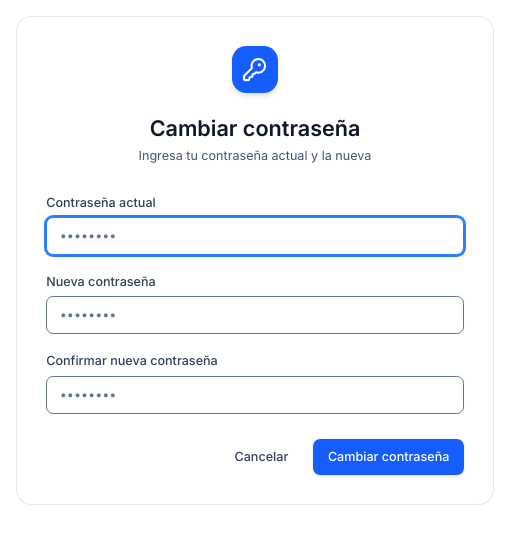
Scenario: ChangePasswordPage › muestra error cuando "confirmar" no coincide con "nueva"
In the password field labelled "Contraseña actual": {"x": 255, "y": 236} [46,217,464,255], type "Password123"
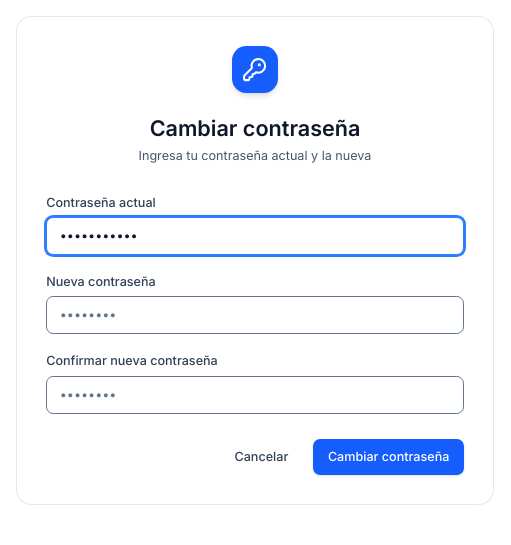
In the password field labelled "Nueva contraseña": {"x": 255, "y": 315} [46,296,464,334], type "NuevaPassword123"
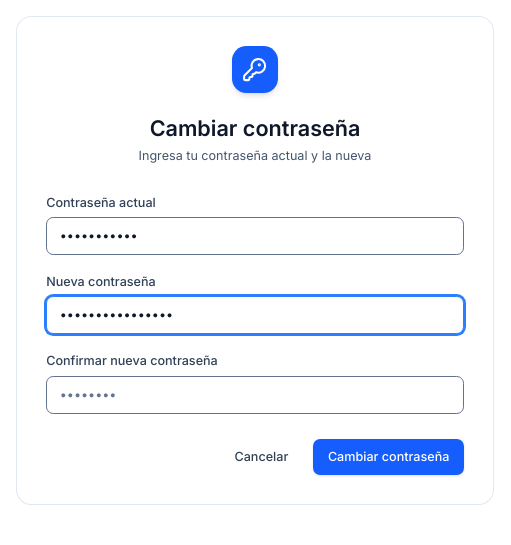
In the password field labelled "Confirmar nueva contraseña": {"x": 255, "y": 395} [46,376,464,414], type "OtraDistinta456"
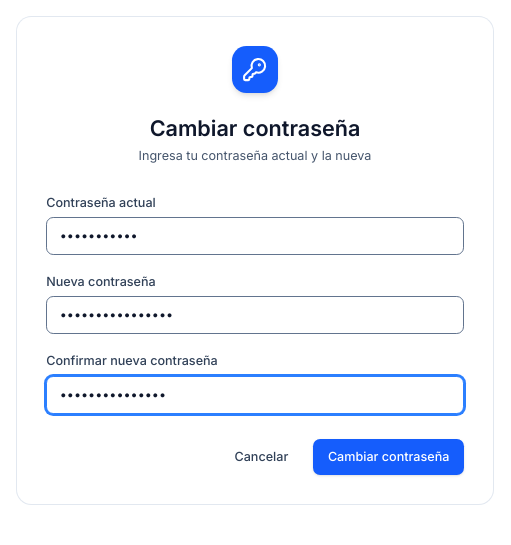
Click the button "Cambiar contraseña": {"x": 389, "y": 457} [314,439,464,475]
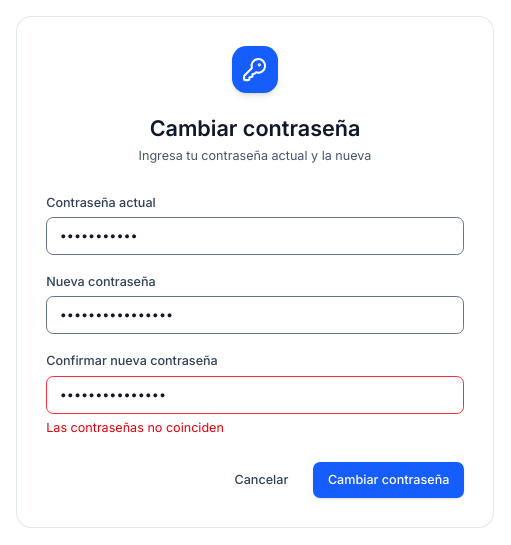
Expected: the text "Las contraseñas no coinciden" is shown, [46,420,224,435]
